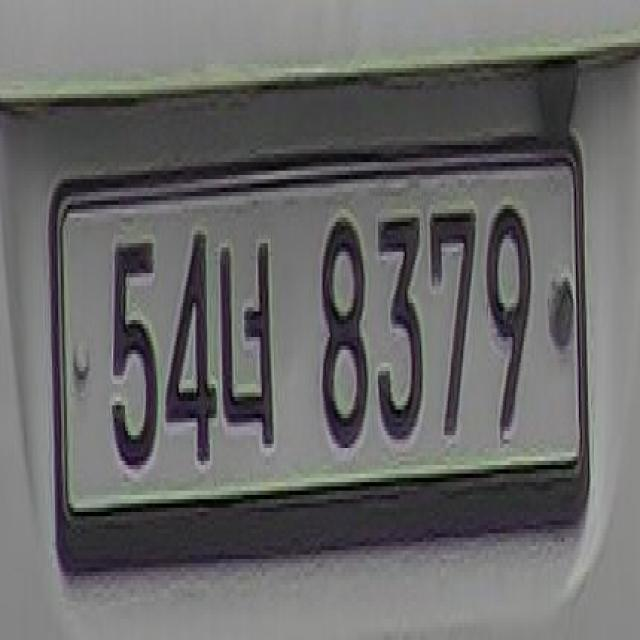3: (371, 192, 424, 469)
4: (162, 196, 222, 491)
5: (106, 179, 160, 474)
7: (426, 175, 478, 465)
8: (311, 188, 371, 461)
9: (481, 192, 542, 448)
license_plate: (48, 124, 596, 589)
neo: (213, 213, 287, 461)
